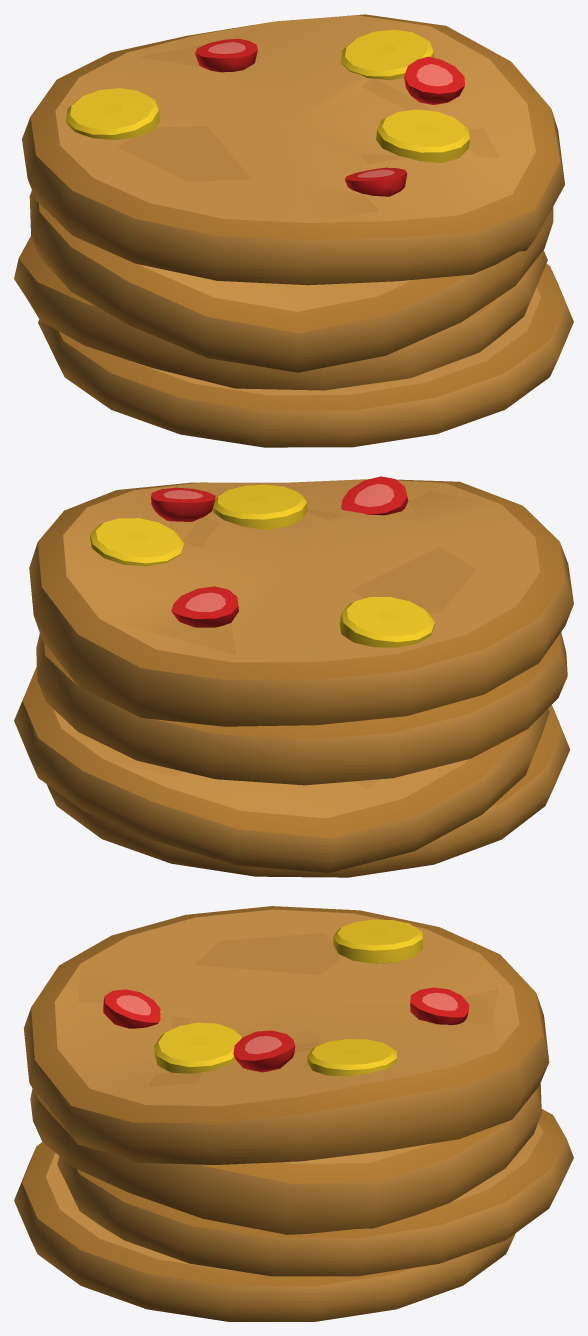
Rendered from Pancake_LV_6.glb.
3 renders of one model, top to bottom at view 1: azimuth 30°, elevation 25°; view 2: azimuth 150°, elevation 25°; view 3: azimuth 270°, elevation 25°, orthographic. The views are drawn at different scales.
Visible parts, largest first — view 1: Pancake_LV_6; view 2: Pancake_LV_6; view 3: Pancake_LV_6.
Boxes of the visible parts, <box> form: Pancake_LV_6: <box>14,14,573,447</box>; Pancake_LV_6: <box>14,476,573,877</box>; Pancake_LV_6: <box>14,906,573,1321</box>.
Size of the model in its own units: 0.2979 by 0.1499 by 0.317.
1 material, 1 textured.
